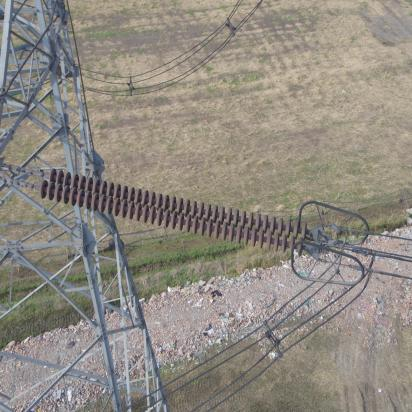insulator: (32, 166, 313, 258)
